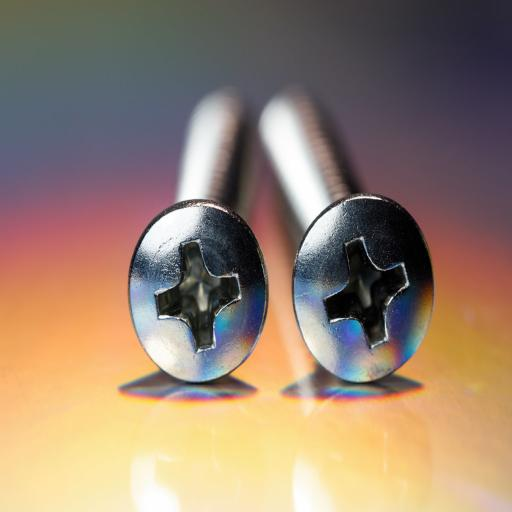Phillips: (291, 194, 430, 388), (128, 202, 268, 388)
